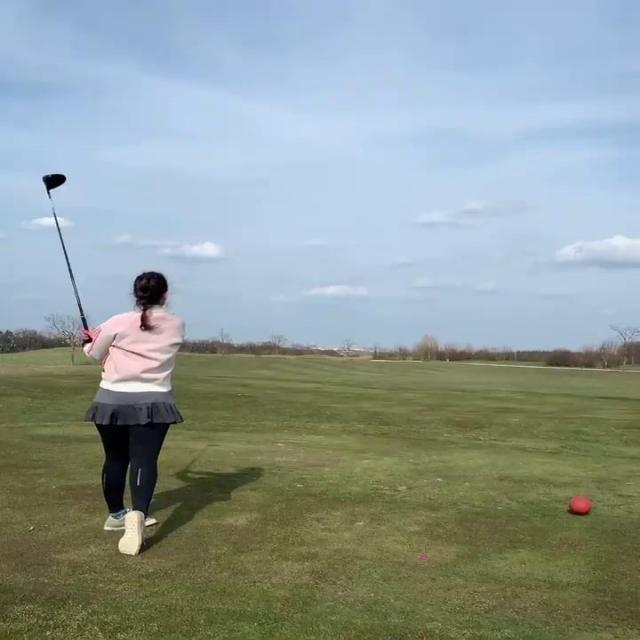ClubHead: (41, 176, 67, 191)
